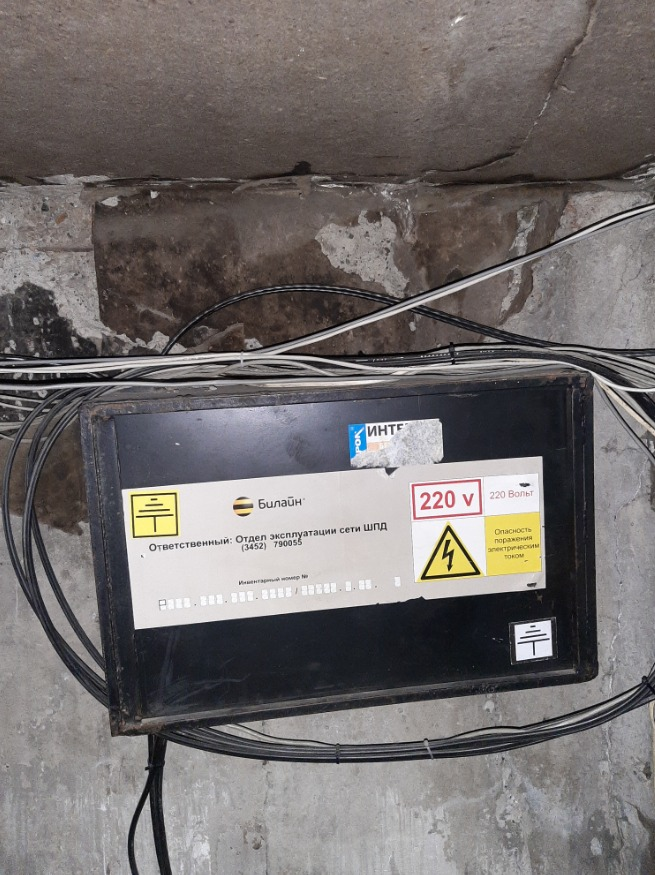shta-9m: (80, 371, 601, 742)
